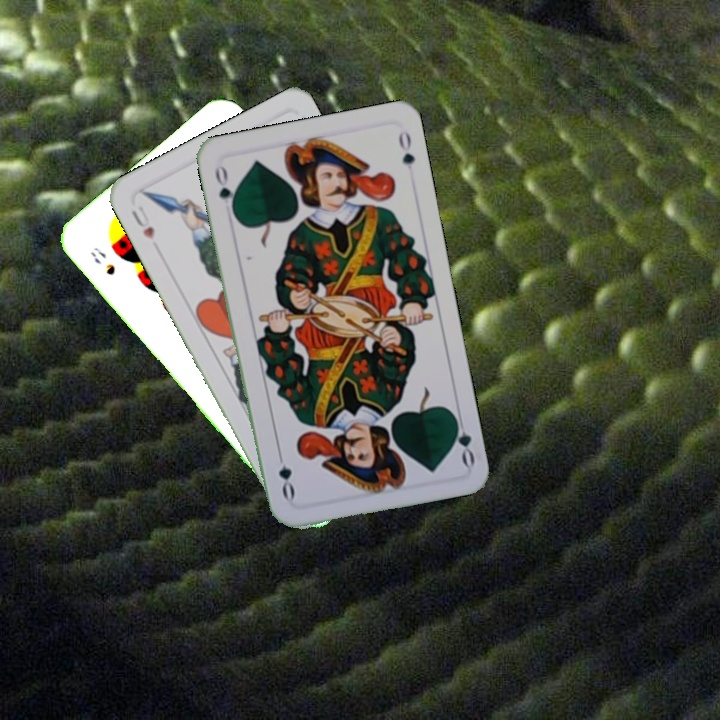GO: (448, 409, 478, 468), (211, 161, 238, 218)
HU: (127, 201, 157, 243)
S8: (86, 243, 118, 278)
